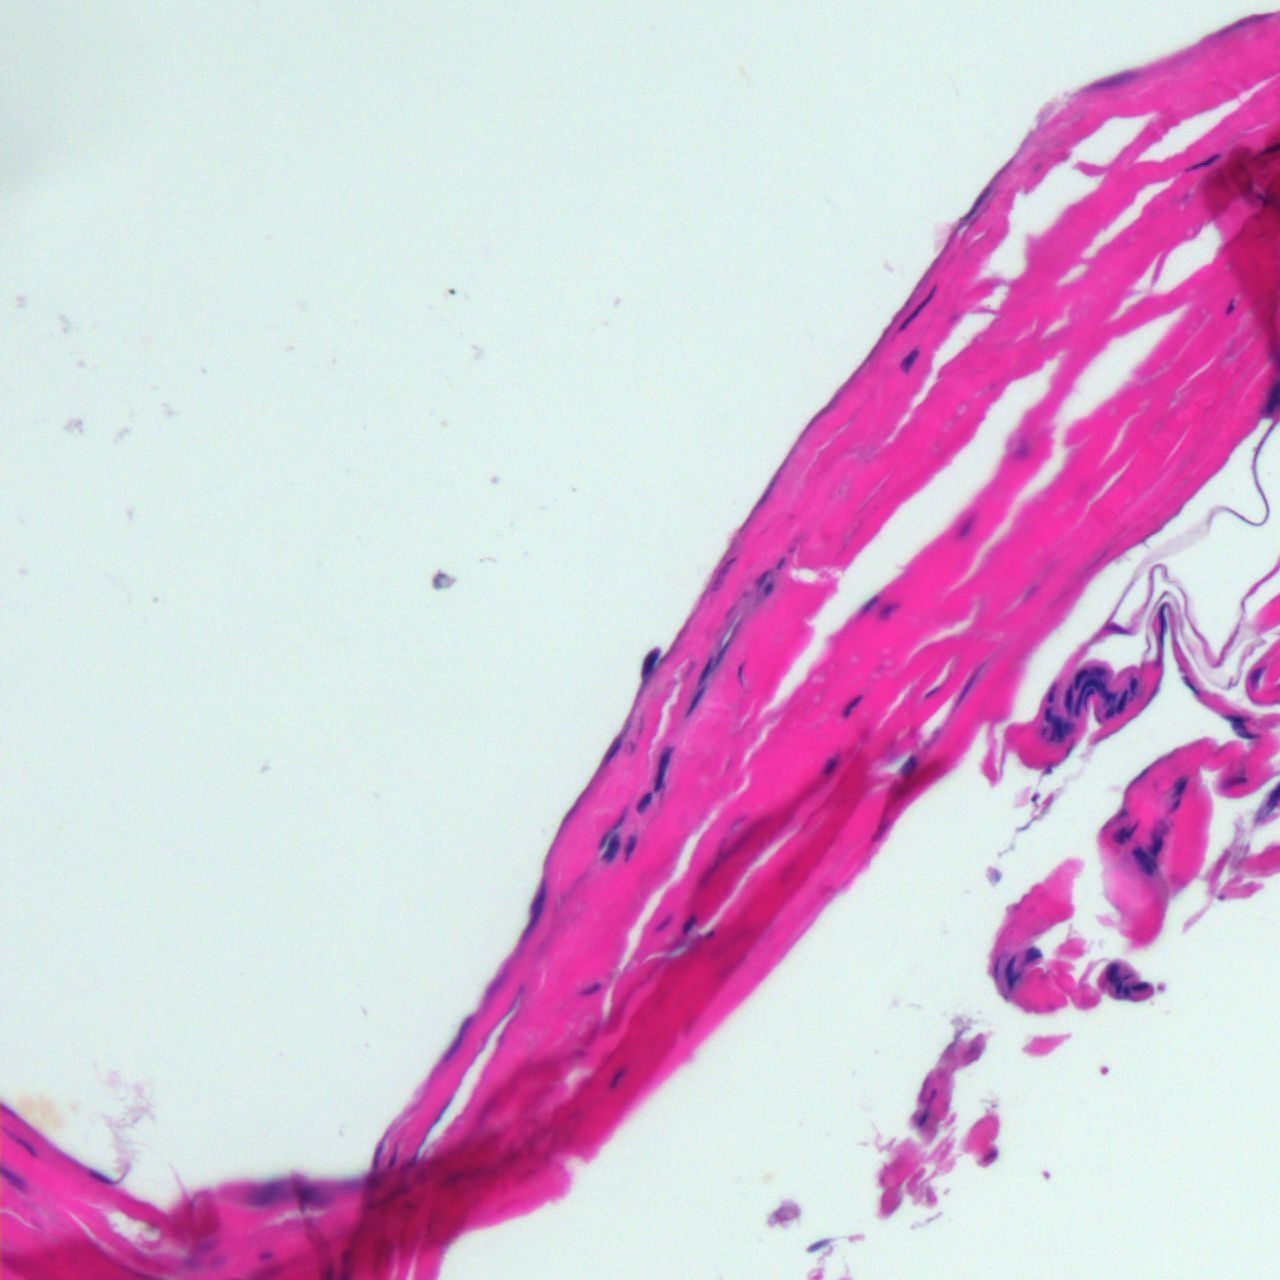nucleus-HE: (438, 1010, 477, 1070), (896, 284, 940, 335), (948, 660, 987, 715), (1219, 703, 1263, 748), (521, 879, 553, 936), (0, 1123, 44, 1164), (956, 182, 996, 226), (595, 805, 631, 852), (246, 1176, 293, 1208), (1127, 842, 1163, 881), (0, 1158, 36, 1196), (815, 744, 845, 782), (650, 746, 674, 793), (1043, 707, 1074, 743), (1110, 814, 1142, 848), (81, 1162, 118, 1191), (573, 974, 607, 1004), (637, 643, 662, 683), (649, 907, 680, 937), (954, 508, 979, 545), (1182, 151, 1224, 173), (1147, 820, 1171, 857), (600, 831, 625, 866), (1166, 770, 1192, 803), (601, 733, 626, 766), (682, 683, 707, 716), (838, 690, 865, 720), (856, 590, 884, 618), (694, 652, 717, 686), (1217, 770, 1249, 794), (896, 345, 923, 373), (875, 597, 902, 623), (606, 1061, 631, 1089), (896, 752, 920, 780), (1004, 955, 1021, 993), (632, 789, 654, 816), (679, 912, 700, 937), (1019, 945, 1043, 966), (752, 566, 773, 589), (1070, 664, 1089, 689), (1158, 601, 1168, 643), (1115, 687, 1130, 714), (623, 834, 636, 862), (1100, 703, 1119, 722), (1249, 666, 1264, 689), (1222, 297, 1238, 316), (1063, 684, 1073, 714), (1129, 980, 1150, 994), (1045, 681, 1057, 704), (760, 580, 776, 597), (1106, 961, 1117, 983), (736, 661, 745, 685), (1089, 665, 1107, 676), (1114, 977, 1125, 995), (1129, 676, 1138, 695), (776, 556, 786, 570)
